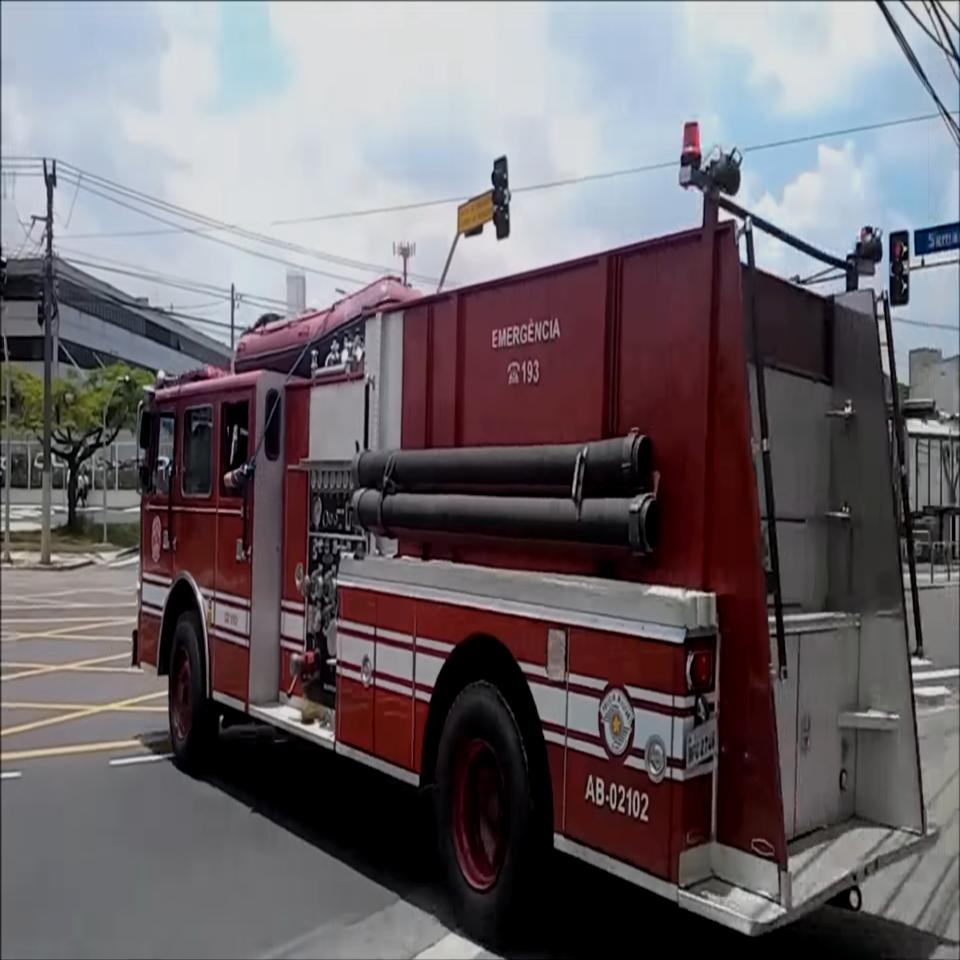bombeiro: (130, 117, 944, 953)
